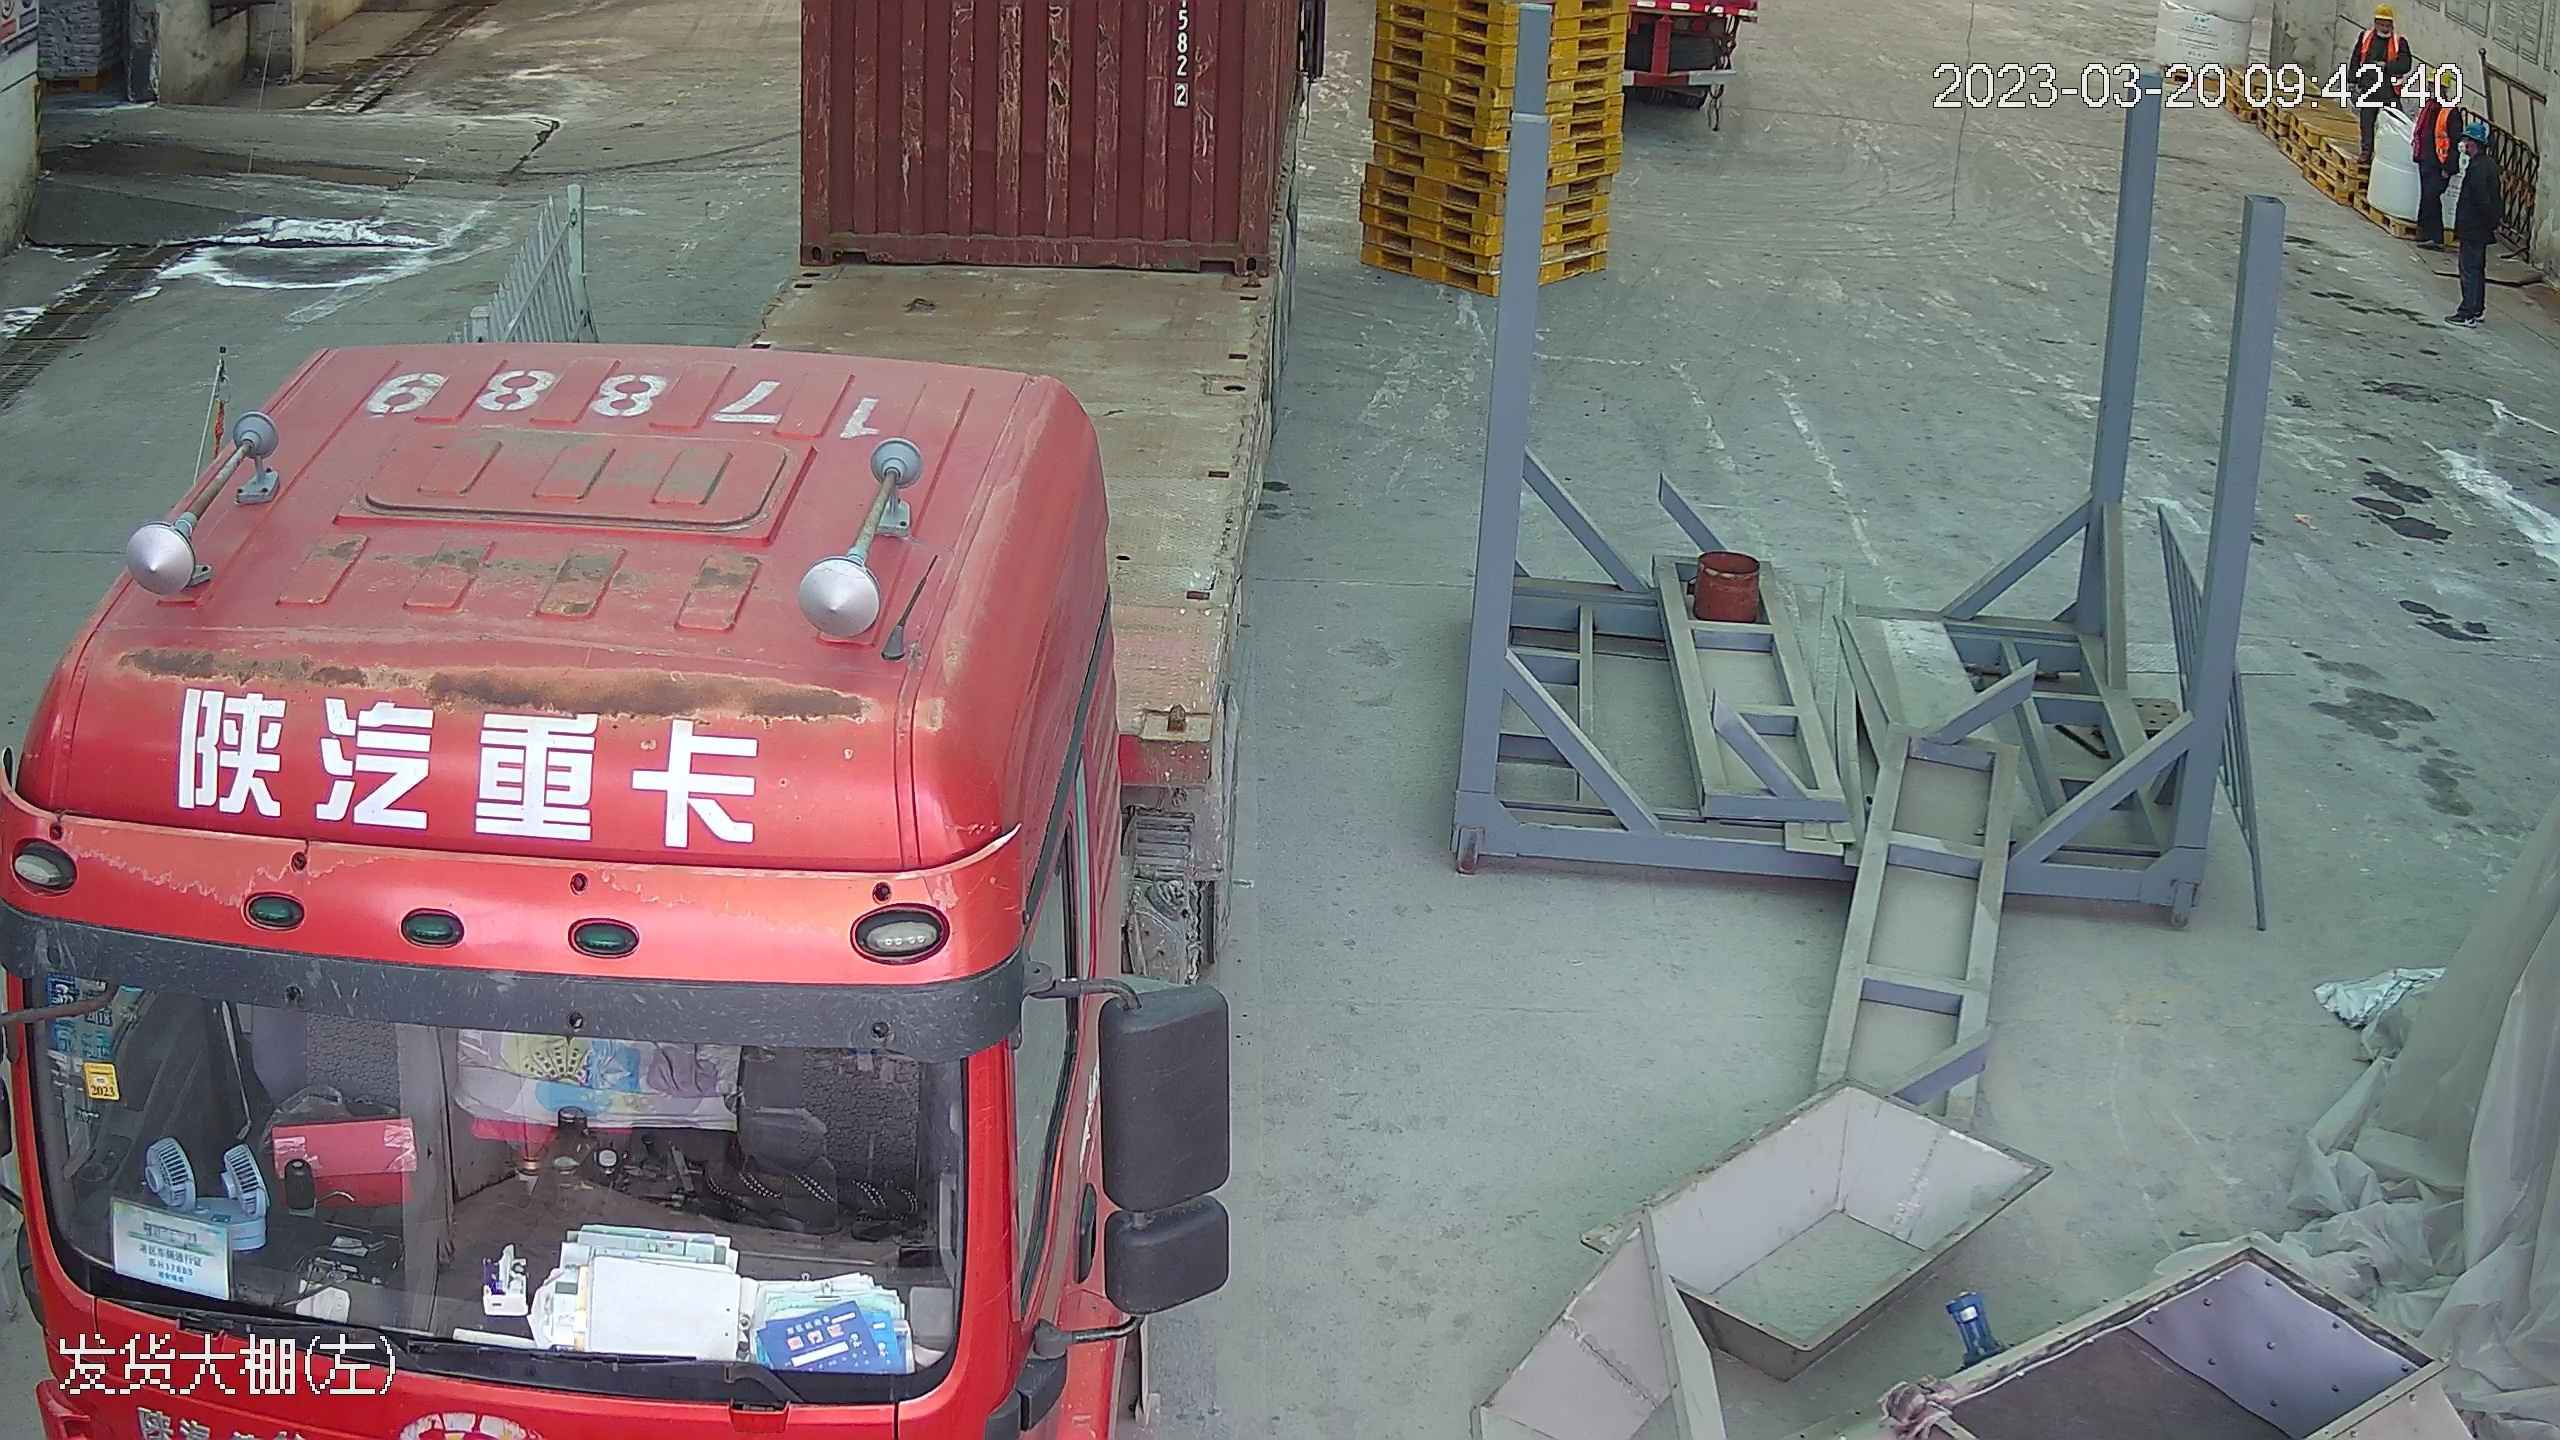head: (2413, 62, 2472, 139), (2351, 2, 2409, 62), (2462, 124, 2501, 183)
helmet: (2423, 57, 2455, 84), (2461, 122, 2490, 144), (2366, 1, 2395, 21)
people: (2433, 71, 2503, 329), (2346, 2, 2414, 222), (2405, 57, 2466, 248)
truck: (8, 1, 1286, 1440)
